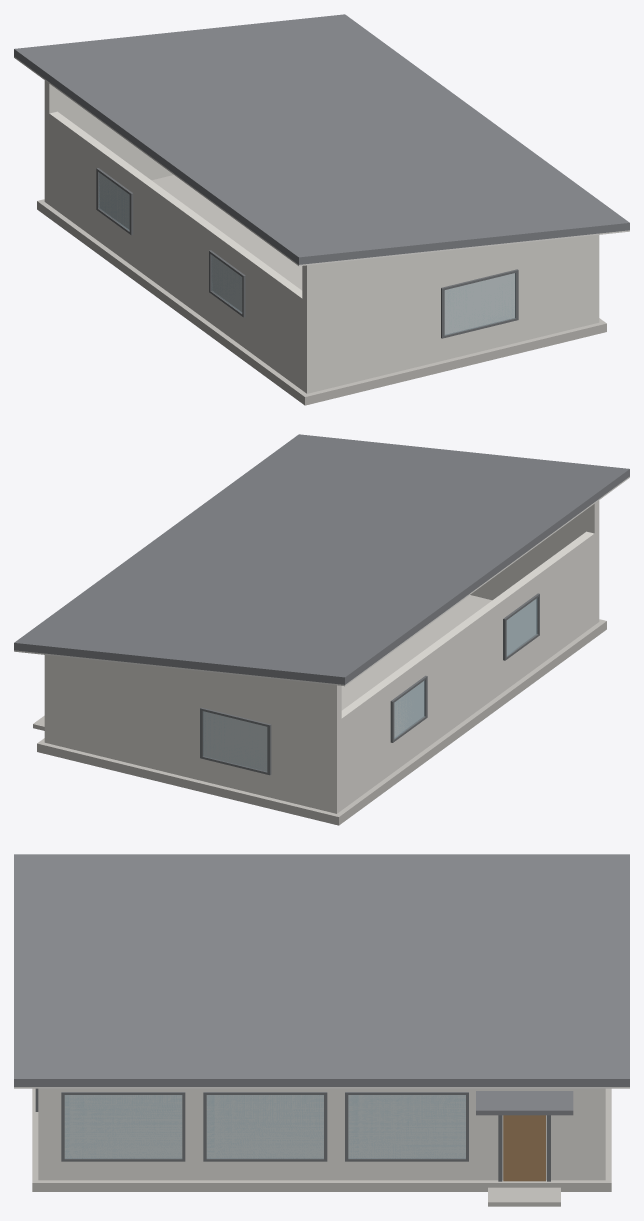
Rendered from reference-house.glb.
3 renders of one model, top to bottom at view 1: azimuth 30°, elevation 25°; view 2: azimuth 150°, elevation 25°; view 3: azimuth 270°, elevation 25°, orthographic. The views are drawn at different scales.
Parts seen in each view (by area): view 1: Contemporary Australian reference house; view 2: Contemporary Australian reference house; view 3: Contemporary Australian reference house.
Boxes of the visible parts, <box> form: Contemporary Australian reference house: <box>14,14,629,405</box>; Contemporary Australian reference house: <box>14,434,629,825</box>; Contemporary Australian reference house: <box>14,854,629,1206</box>.
Size of the model in its own units: 10.75 by 4.65 by 15.2.
